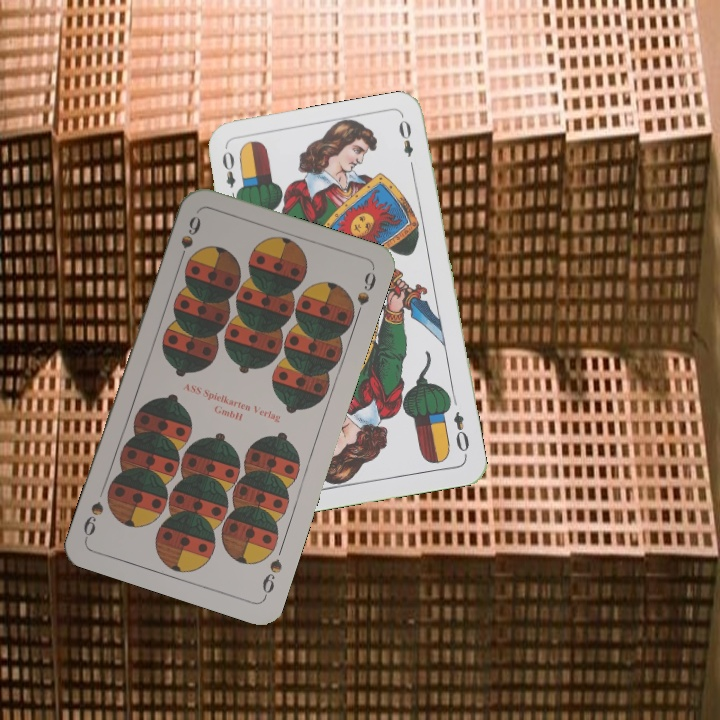EO: (218, 147, 243, 205), (449, 407, 472, 459)
S9: (174, 211, 203, 267), (258, 555, 285, 601)
